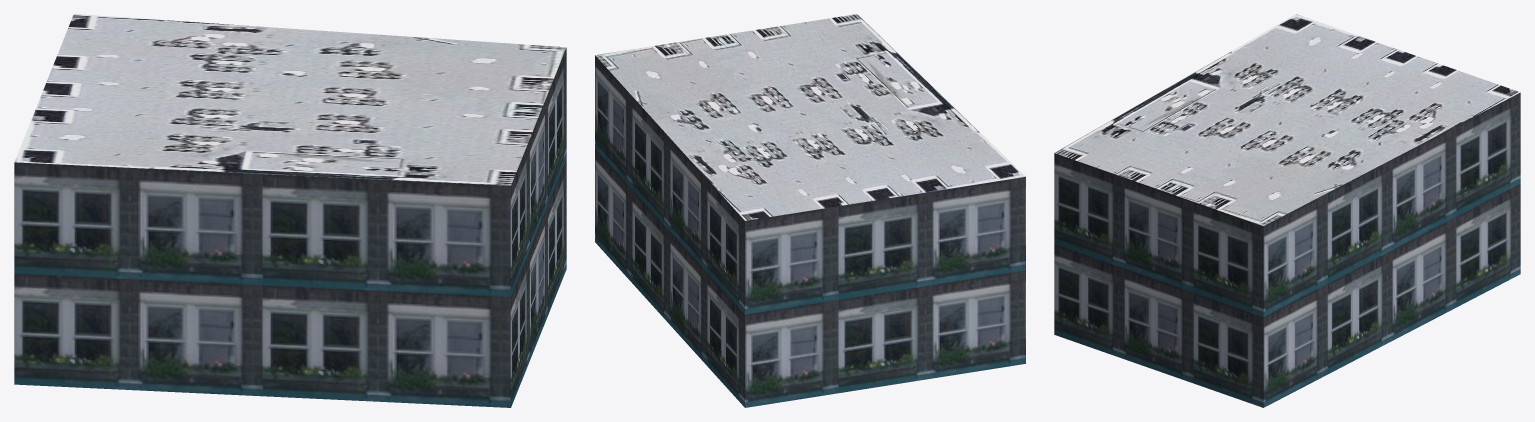
The model's file is ResTex__3176.fbx.
The picture shows the model from 3 angles, left to right: view 1: azimuth 30°, elevation 25°; view 2: azimuth 150°, elevation 25°; view 3: azimuth 270°, elevation 25°; orthographic projection. The views are drawn at different scales.
Visible parts, largest first — view 1: CityEngineMaterial_11_m, CityEngineMaterial_m; view 2: CityEngineMaterial_11_m, CityEngineMaterial_m; view 3: CityEngineMaterial_11_m, CityEngineMaterial_m.
Boxes of the visible parts, <box> form: CityEngineMaterial_11_m: <box>14,47,566,407</box>; CityEngineMaterial_m: <box>14,14,566,185</box>; CityEngineMaterial_11_m: <box>595,55,1025,407</box>; CityEngineMaterial_m: <box>595,14,1025,220</box>; CityEngineMaterial_11_m: <box>1054,92,1520,407</box>; CityEngineMaterial_m: <box>1055,14,1520,225</box>.
Bounding box in the file's own units: 15.03 × 6 × 13.96.
Materials: 2 (2 with a texture image).
